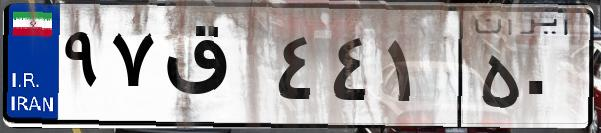0: (525, 38, 570, 115)
1: (385, 28, 445, 110)
4: (270, 28, 330, 110), (330, 28, 385, 110)
5: (475, 38, 525, 113)
7: (110, 28, 158, 98)
9: (57, 26, 110, 100)
ق: (158, 20, 270, 120)
